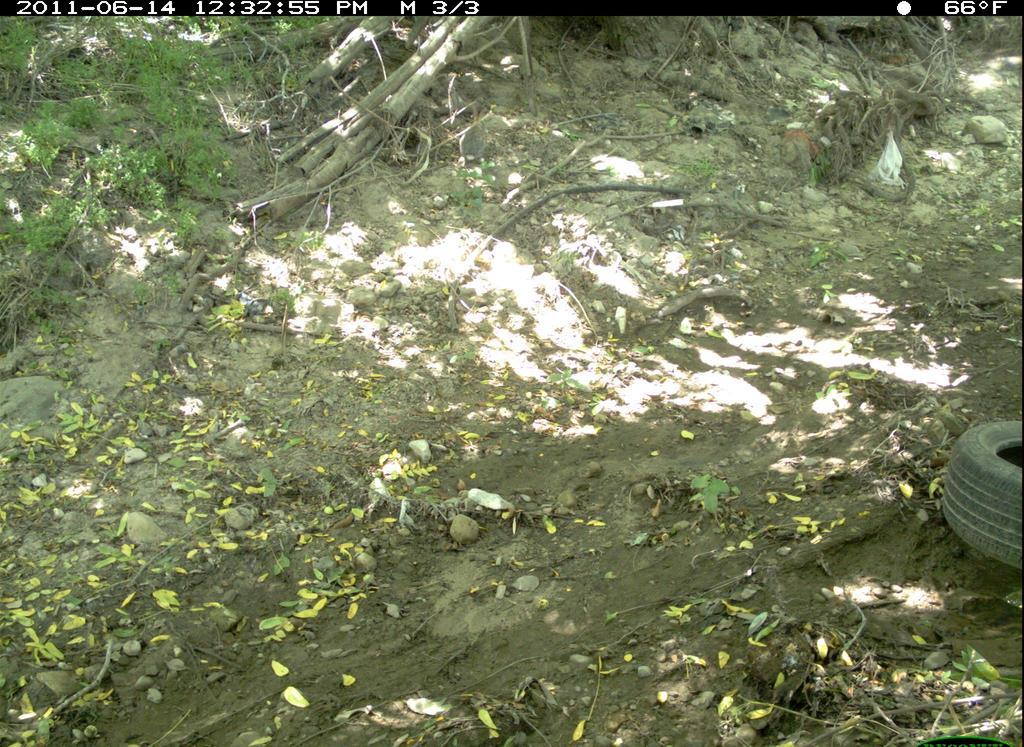rabbit: (453, 103, 497, 172)
